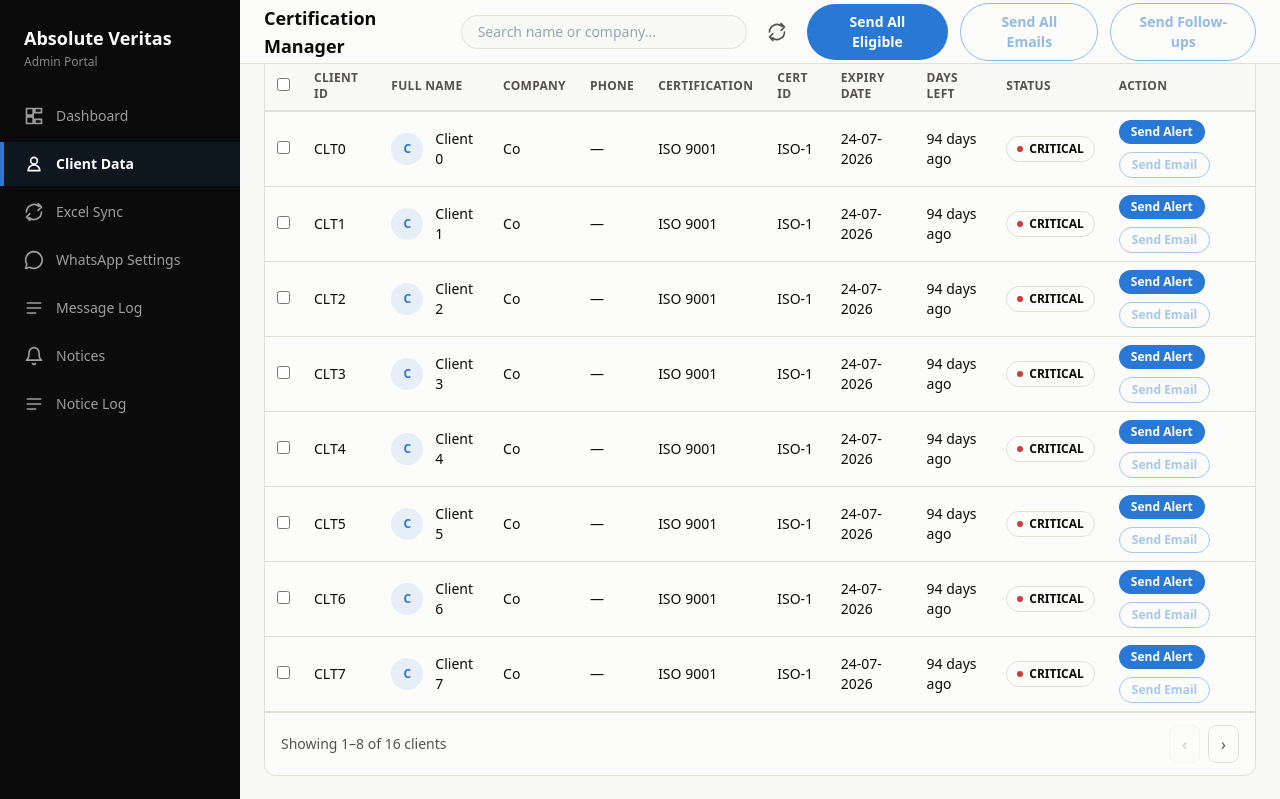
App › ignores a stale paginated response that resolves after a newer one for a changed filter
(page scrolled)
Check: the text "Client 0" is shown, box x1=435 y1=129 x2=479 y2=169
Move to page 2.
Click the button named "Next page" at (1224, 744), box x1=1208 y1=725 x2=1239 y2=763
(page scrolled)
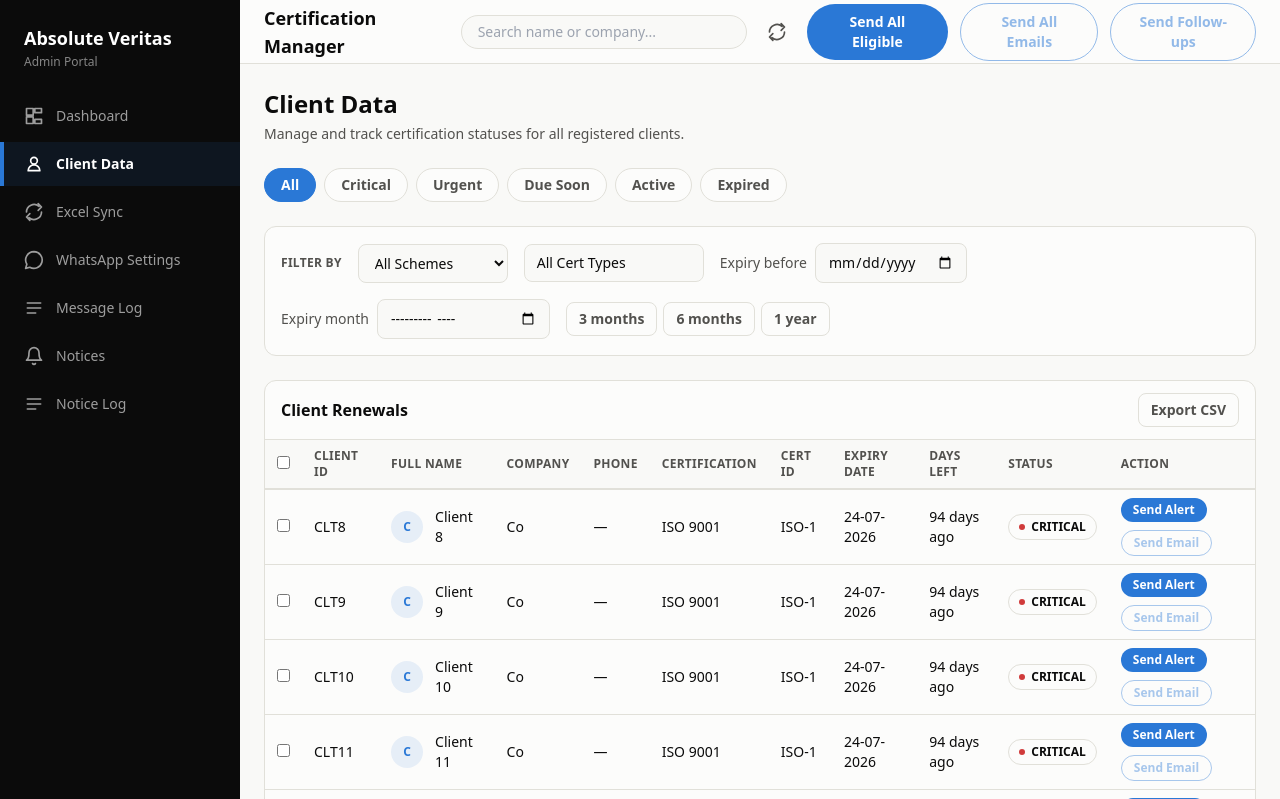
Check: the text "Client 8" is shown, box x1=435 y1=507 x2=473 y2=546
Click the button "Critical" at (366, 185), box x1=324 y1=168 x2=408 y2=202
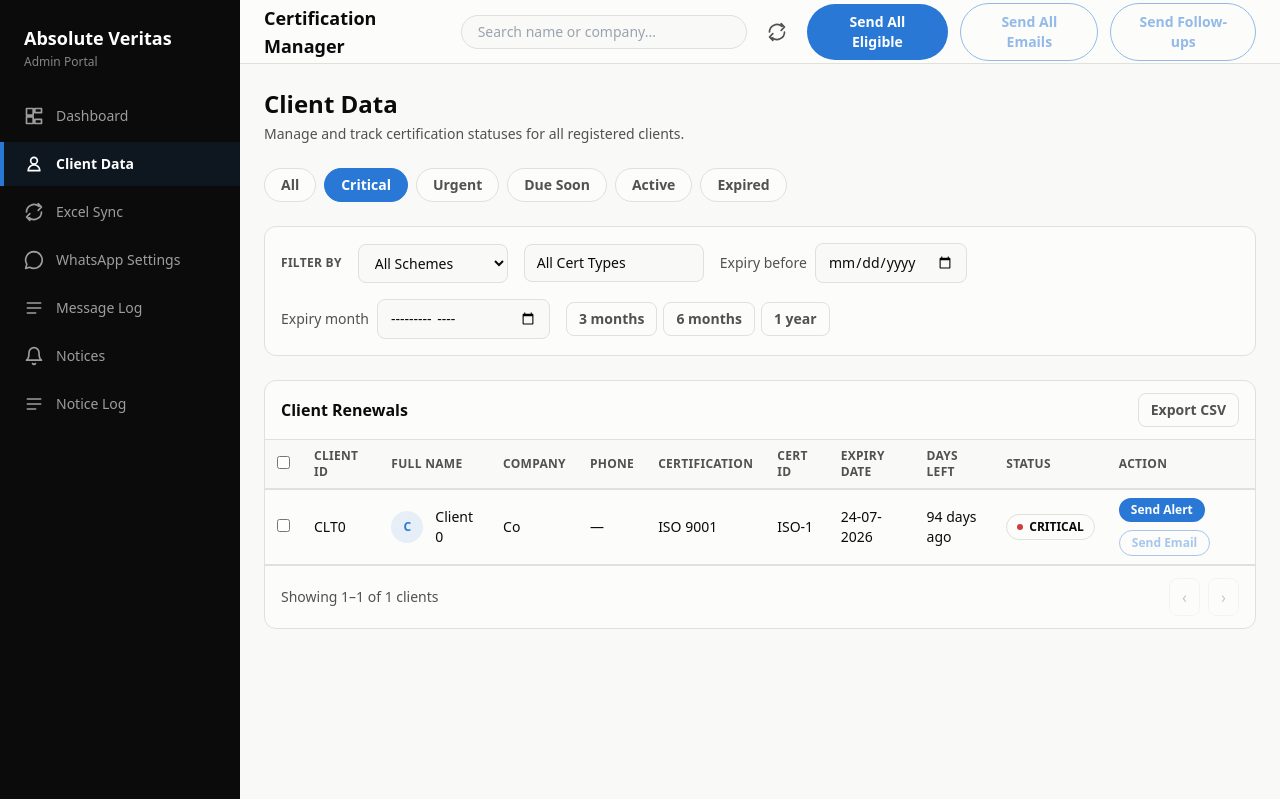
Check: the text "Client 0" is shown, box x1=435 y1=507 x2=479 y2=547
Check: the text "Client 8" is gone
